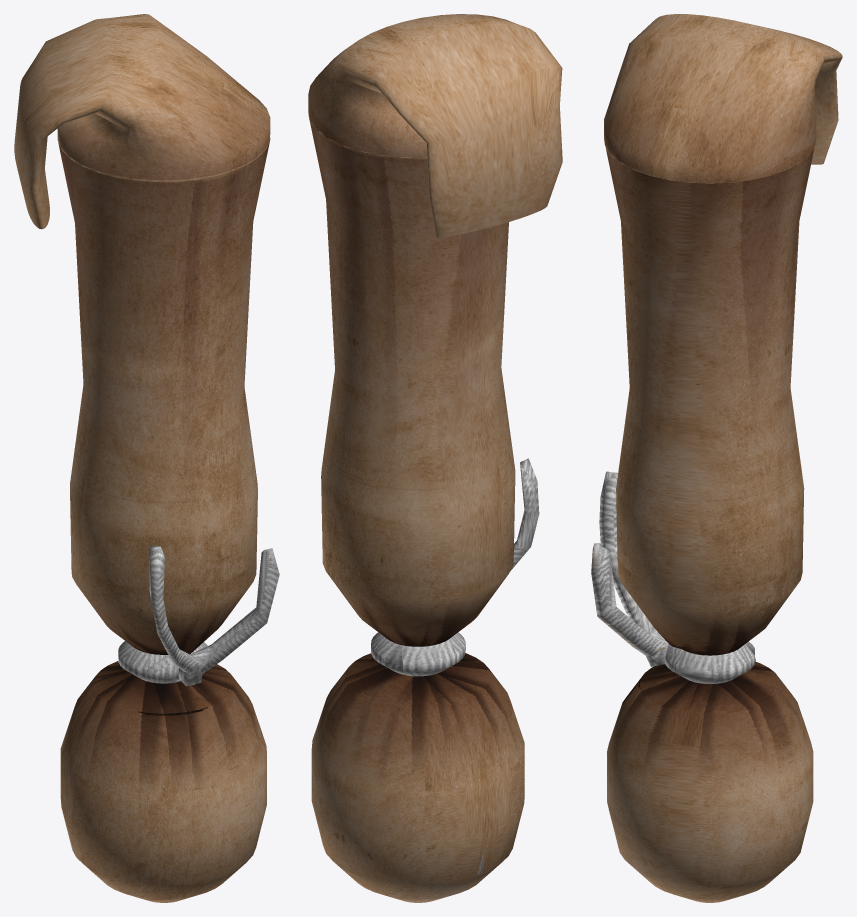
Rendered from Cartridge.fbx.
3 renders of one model, left to right at view 1: azimuth 30°, elevation 25°; view 2: azimuth 150°, elevation 25°; view 3: azimuth 270°, elevation 25°, orthographic. The views are drawn at different scales.
Parts seen in each view (by area): view 1: Cartridge, Spent; view 2: Cartridge, Spent; view 3: Cartridge, Spent.
Part boxes in pixels (bbox=[...]): Cartridge: bbox=[58, 138, 279, 902]; Spent: bbox=[14, 14, 270, 229]; Cartridge: bbox=[308, 114, 539, 902]; Spent: bbox=[308, 14, 562, 237]; Cartridge: bbox=[591, 138, 815, 902]; Spent: bbox=[604, 14, 842, 183].
Size of the model in its own units: 4.71 by 4.5 by 16.77.
